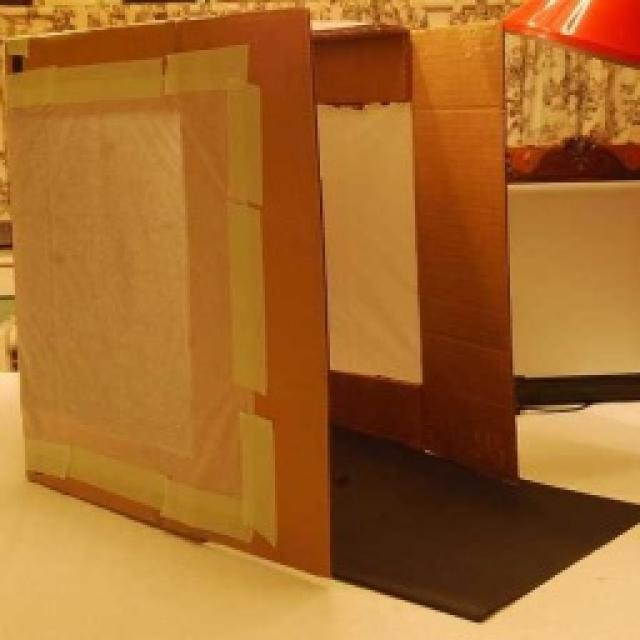box: (0, 4, 568, 614)
